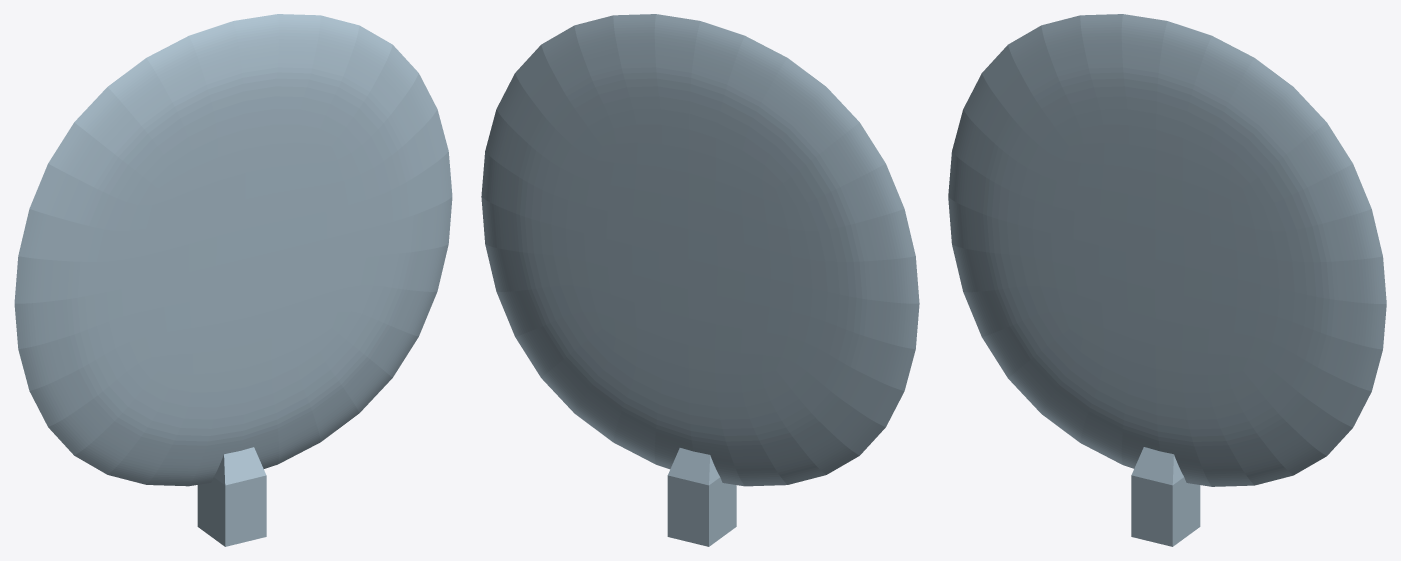
File: Reliquia2.fbx
3 renders of one model, left to right at view 1: azimuth 30°, elevation 25°; view 2: azimuth 150°, elevation 25°; view 3: azimuth 330°, elevation 25°, orthographic.
Parts seen in each view (by area): view 1: Plane.001; view 2: Plane.001; view 3: Plane.001.
Part boxes in pixels (left/top/right/bottom): Plane.001: left=14, top=14, right=452, bottom=546; Plane.001: left=481, top=14, right=919, bottom=546; Plane.001: left=948, top=14, right=1386, bottom=546.
Bounding box in the file's own units: 105 × 117 × 11.48.
